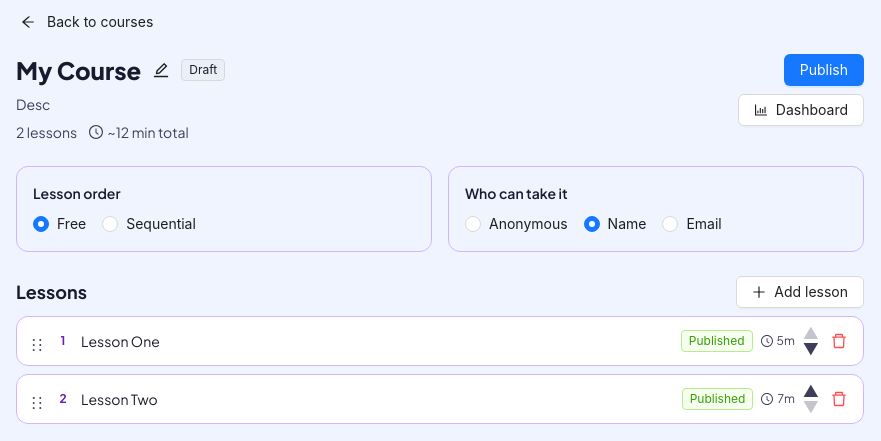
CourseDetail.vue › editing the title patches the course
This screenshot has width=881, height=441.
Click the button with test id "edit-title": {"x": 161, "y": 70} top-left (149, 58), bottom-right (173, 82)
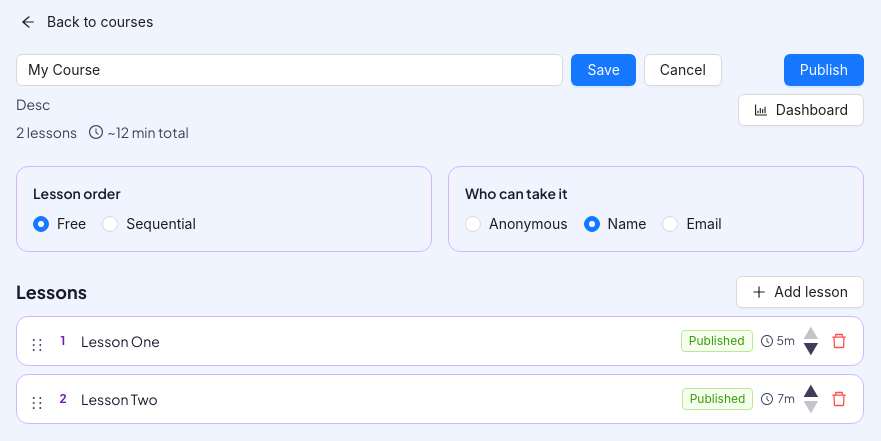
Replace the text in the field with test id "title-input" with "Renamed": {"x": 290, "y": 70} top-left (16, 54), bottom-right (564, 86)
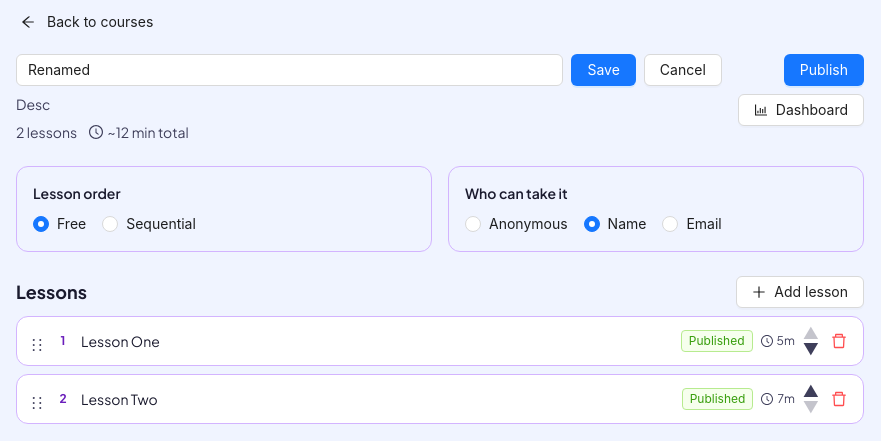
Click the button with test id "save-title": {"x": 604, "y": 70} top-left (572, 54), bottom-right (636, 86)
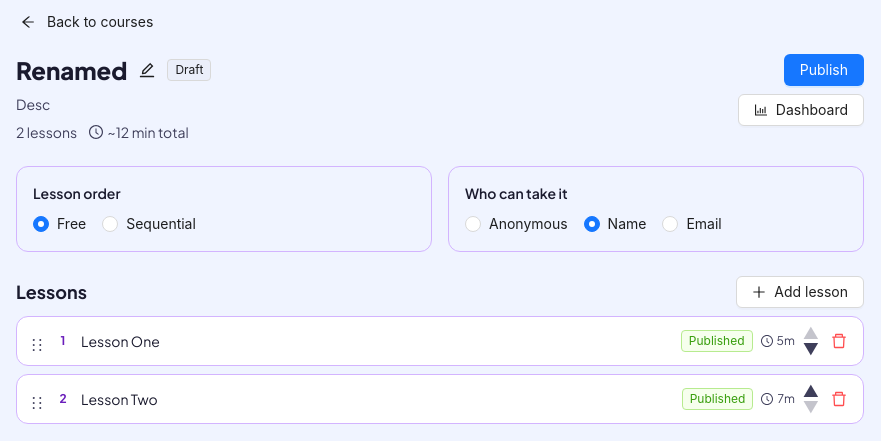
Result: the text "Renamed" is shown at top-left (16, 54), bottom-right (127, 86)
